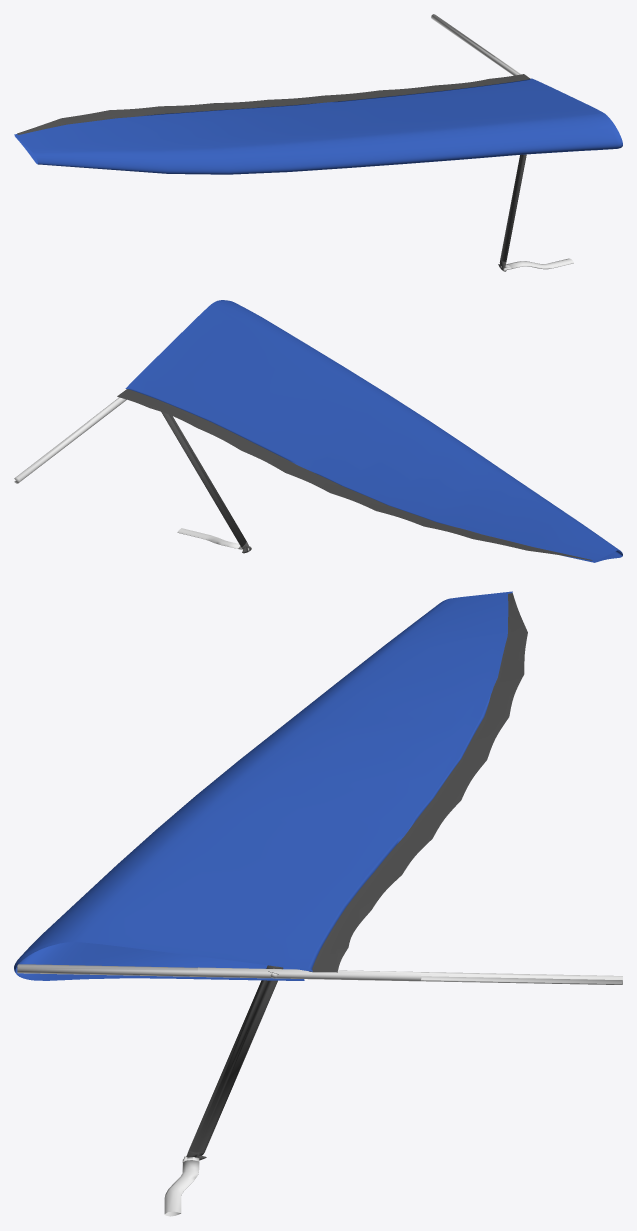
Rendered from glideSeparetedRight.fbx.
3 views of the same model, one above another, from view 1: azimuth 30°, elevation 25°; view 2: azimuth 150°, elevation 25°; view 3: azimuth 270°, elevation 25° (orthographic). The views are drawn at different scales.
Visible parts, largest first — view 1: Right; view 2: Right; view 3: Right.
Part boxes in pixels (box(x1,y1,x2,y2)): Right: box(14, 14, 622, 271); Right: box(14, 300, 622, 562); Right: box(14, 591, 622, 1216).
Bounding box in the file's own units: 487 × 173 × 344.
